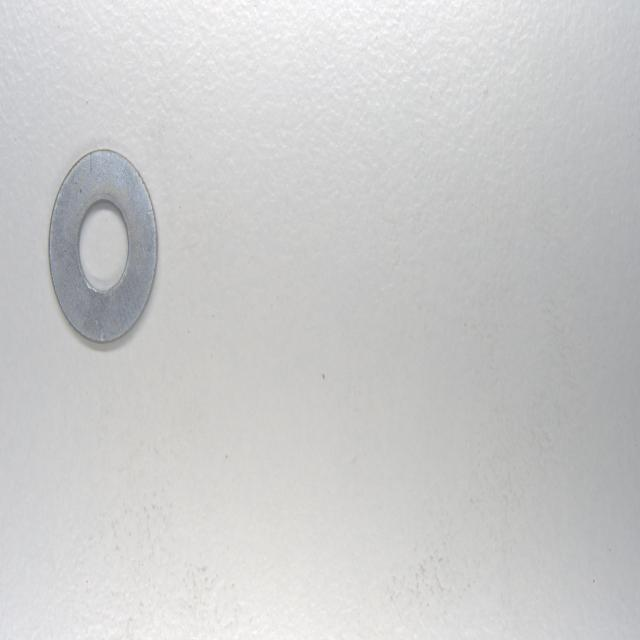washer: (47, 143, 160, 350)
